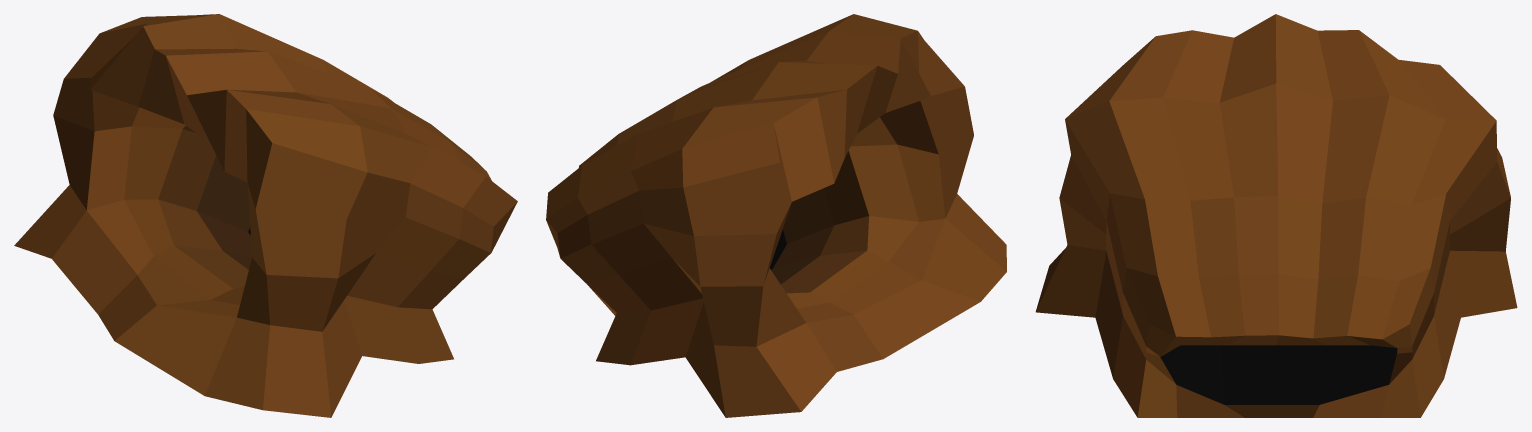
Rendered from CavernEntrance1.glb.
The picture shows the model from 3 angles, left to right: view 1: azimuth 30°, elevation 25°; view 2: azimuth 150°, elevation 25°; view 3: azimuth 270°, elevation 25°; orthographic projection. The views are drawn at different scales.
Parts seen in each view (by area): view 1: Cube; view 2: Cube; view 3: Cube.
Part boxes in pixels (bbox=[...]): Cube: bbox=[14, 14, 517, 417]; Cube: bbox=[546, 14, 1006, 417]; Cube: bbox=[1035, 14, 1517, 417].
Bounding box in the file's own units: 2.45 × 1.85 × 2.69.
